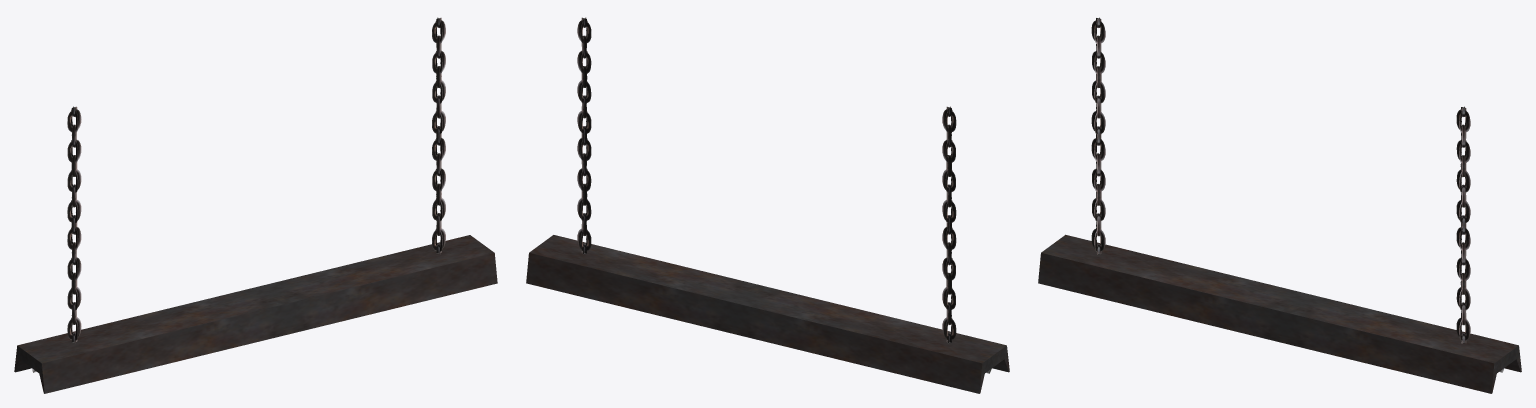
Rendered from light02.glb.
3 views of the same model, side by side, from view 1: azimuth 30°, elevation 25°; view 2: azimuth 150°, elevation 25°; view 3: azimuth 330°, elevation 25° (orthographic).
Parts seen in each view (by area): view 1: Prop_CeilingLight; view 2: Prop_CeilingLight; view 3: Prop_CeilingLight.
Part boxes in pixels (x1=…): Prop_CeilingLight: x1=14, y1=17, x2=497, y2=393; Prop_CeilingLight: x1=526, y1=17, x2=1009, y2=393; Prop_CeilingLight: x1=1038, y1=17, x2=1521, y2=393.
Size of the model in its own units: 2 by 1.12 by 0.2323.
Materials: 1 (1 with a texture image).
